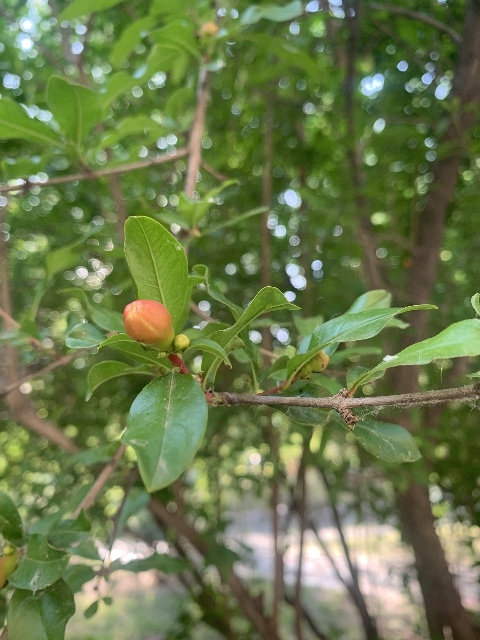bud: (123, 299, 174, 349)
